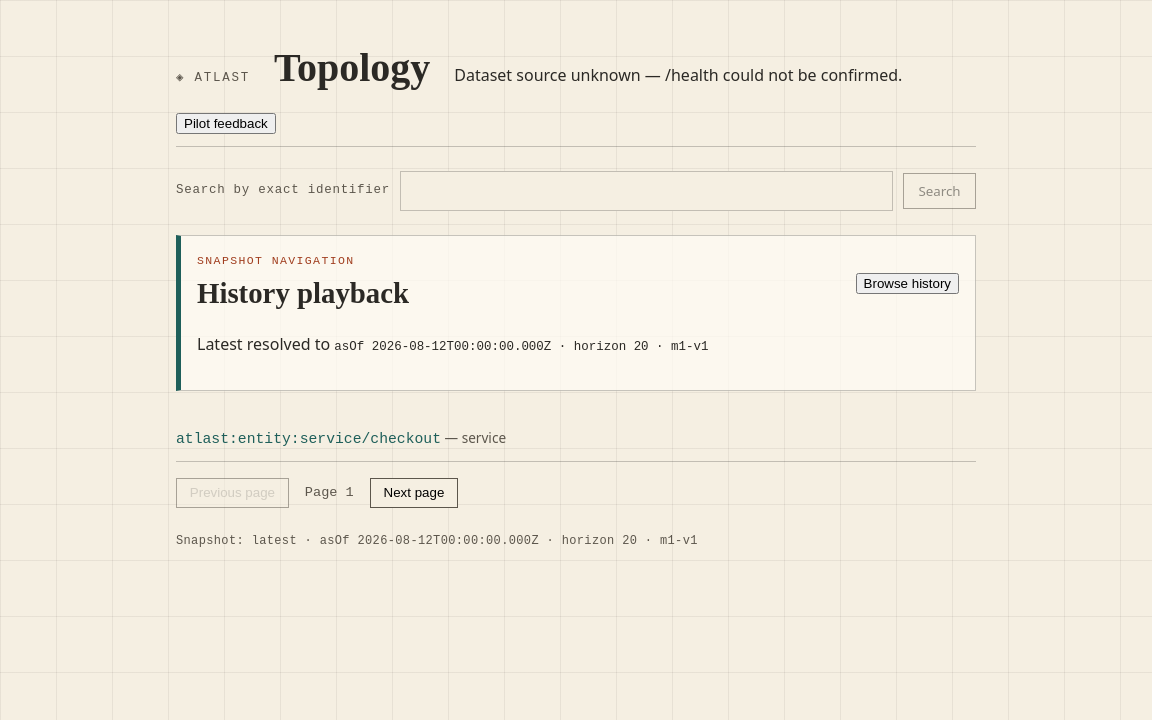
Test: TopologyPage — inventory › paginates forward and back using only opaque cursor tokens, reusing the cache on return
The width and height of the screenshot is (1152, 720).
Expected: the link "atlast:entity:service/checkout" is shown, [176,431,441,447]
Click the button "Next page" at x=414, y=493, box [370,478,458,508]
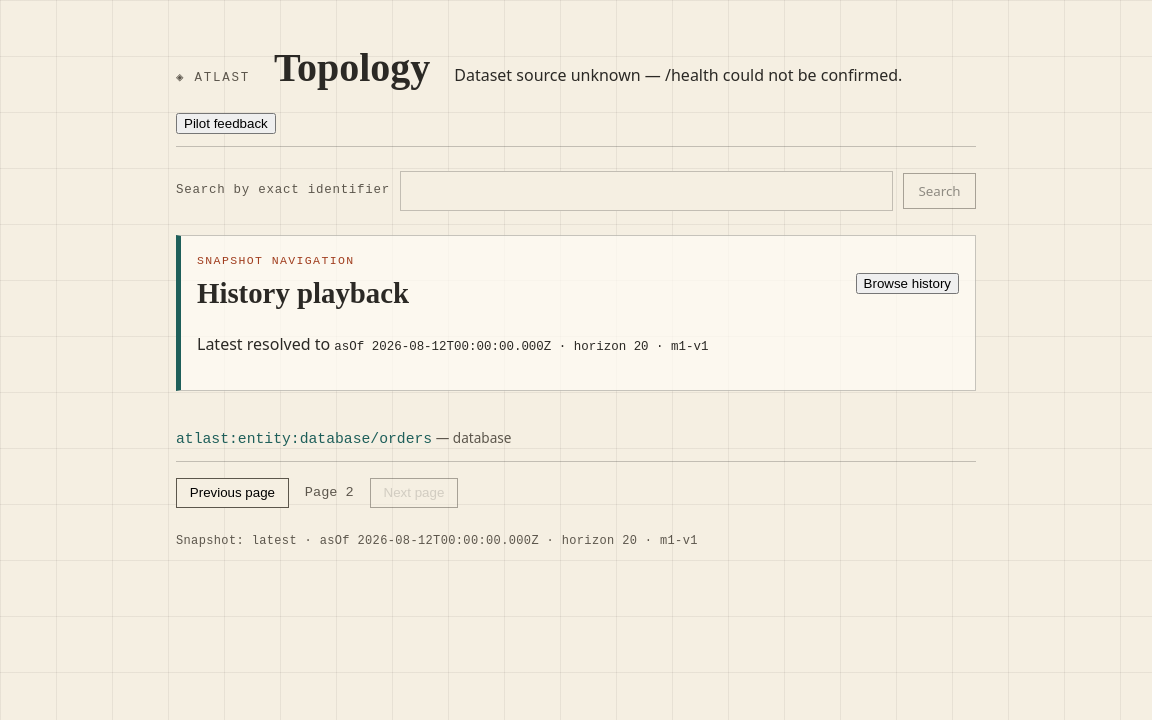
Result: the link "atlast:entity:database/orders" is shown at [176,431,432,447]
Click the button "Previous page" at x=232, y=493, box [176,478,289,508]
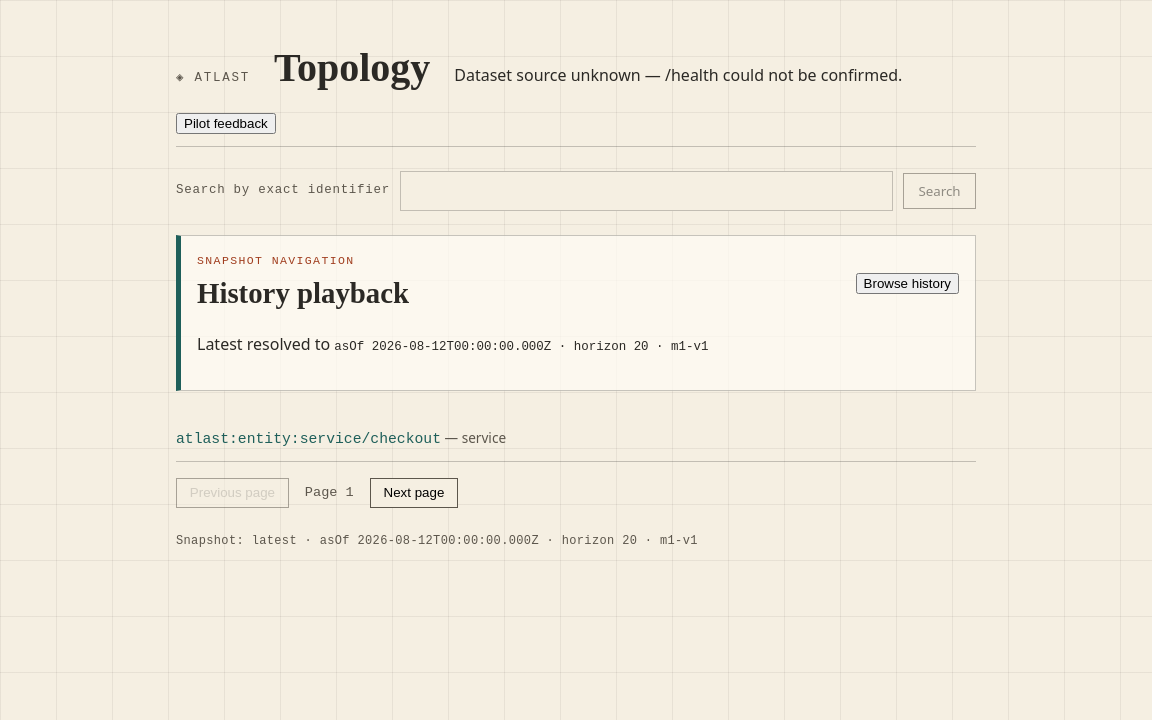
Result: the link "atlast:entity:service/checkout" is shown at [176,431,441,447]
